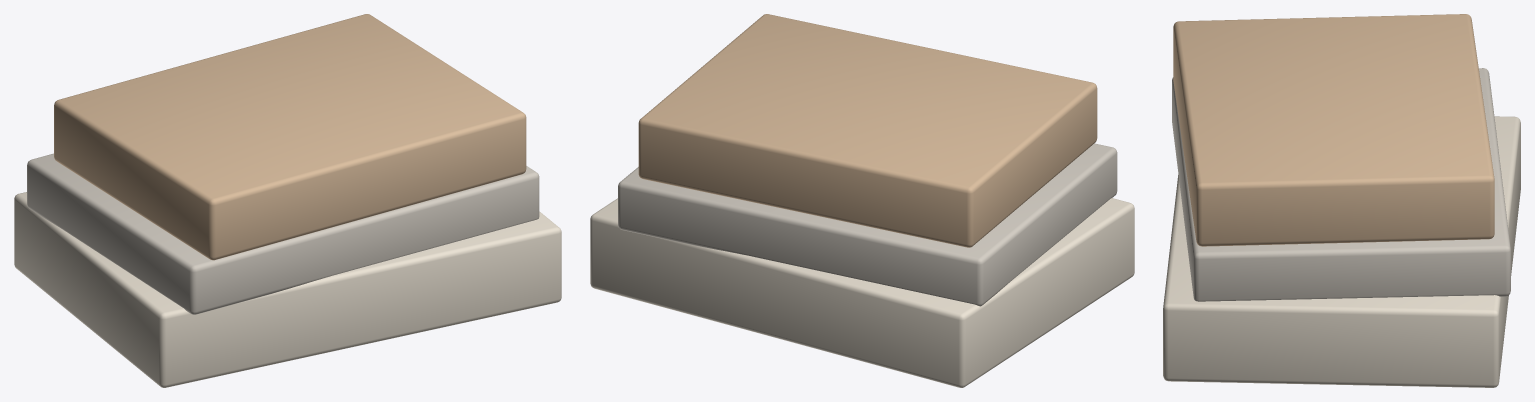
The model's file is mo_books.glb.
The picture shows the model from 3 angles, left to right: view 1: azimuth 30°, elevation 25°; view 2: azimuth 150°, elevation 25°; view 3: azimuth 270°, elevation 25°; orthographic projection. The views are drawn at different scales.
Parts seen in each view (by area): view 1: book2, book0, book1; view 2: book2, book0, book1; view 3: book2, book0, book1.
Part boxes in pixels (x1,y1,x2,y2): book2: (54,14,526,260); book0: (14,192,561,387); book1: (27,153,539,314); book2: (638,14,1097,247); book0: (590,198,1134,387); book1: (618,143,1117,306); book2: (1173,14,1494,246); book0: (1163,116,1520,387); book1: (1172,68,1510,301).
Size of the model in its own units: 0.258 by 0.1113 by 0.1914.
